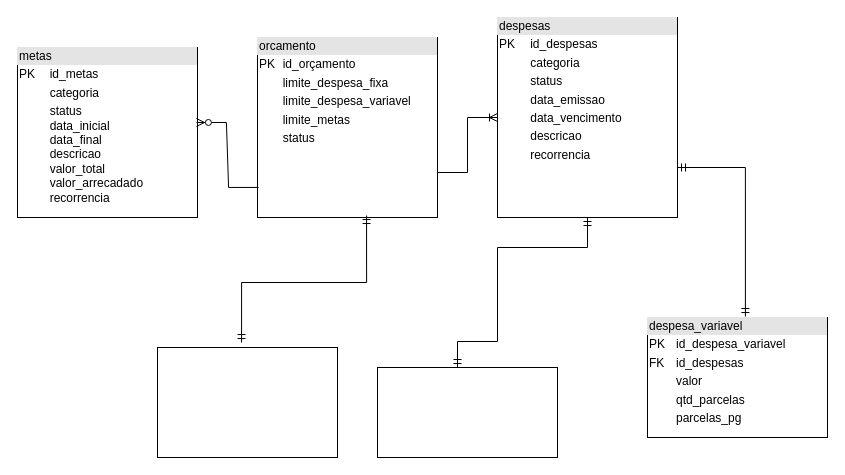
This 845x475 diagram has some shape labels left out. The centre of each missing label's shape, as x and y in pixels:
despesa_fixa PK id_depesa_fixa FK id_despesa valor_mensal: the point at 467,412
usuario PK id_usuario nome senha renda_disponivel saldo: the point at 247,402
